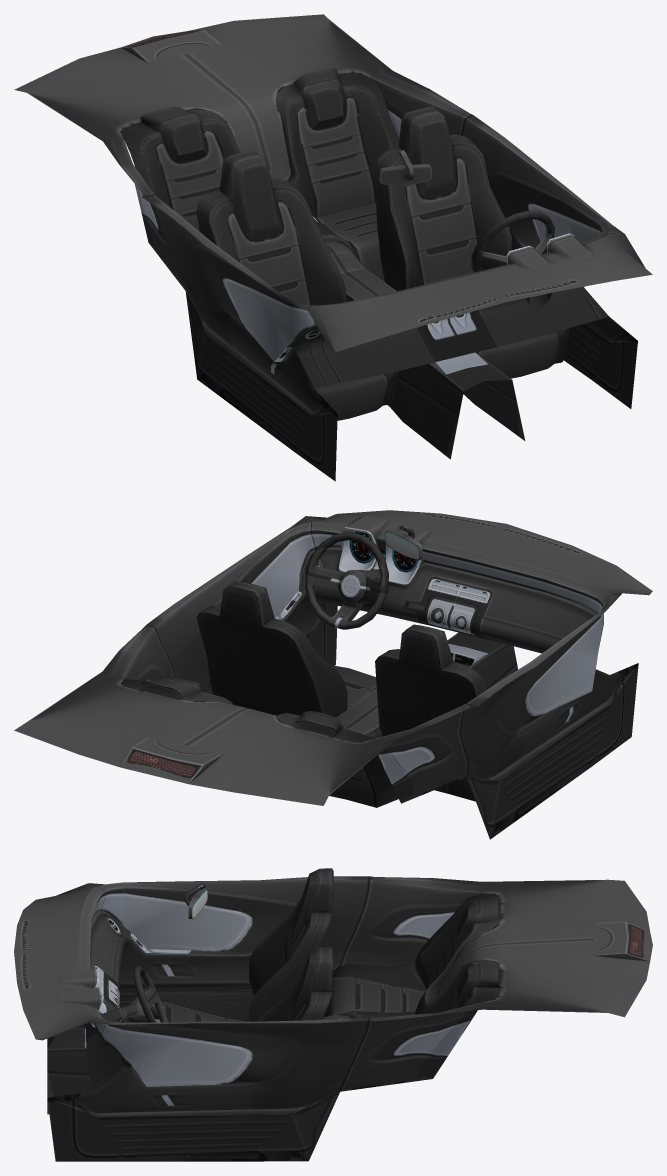
File: Car_06_Interior.FBX
3 renders of one model, top to bottom at view 1: azimuth 30°, elevation 25°; view 2: azimuth 150°, elevation 25°; view 3: azimuth 270°, elevation 25°, orthographic. The views are drawn at different scales.
Visible parts, largest first — view 1: Car_06_Interior_B; view 2: Car_06_Interior_B; view 3: Car_06_Interior_B.
Boxes of the visible parts, x1,y1,x2,y2 form: Car_06_Interior_B: (14,14,652,481); Car_06_Interior_B: (14,510,652,839); Car_06_Interior_B: (14,868,652,1161).
Size of the model in its own units: 1.45 by 2.66 by 0.9841.
